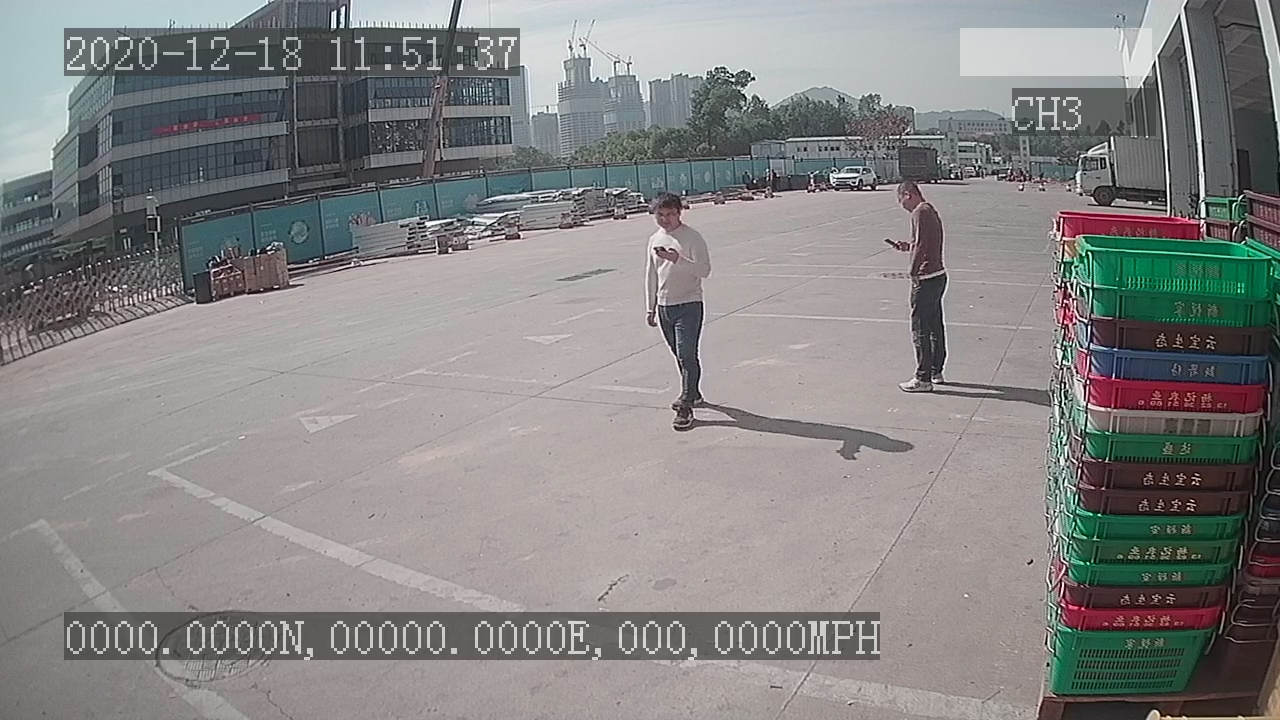person: (634, 188, 715, 440), (883, 170, 959, 404)
